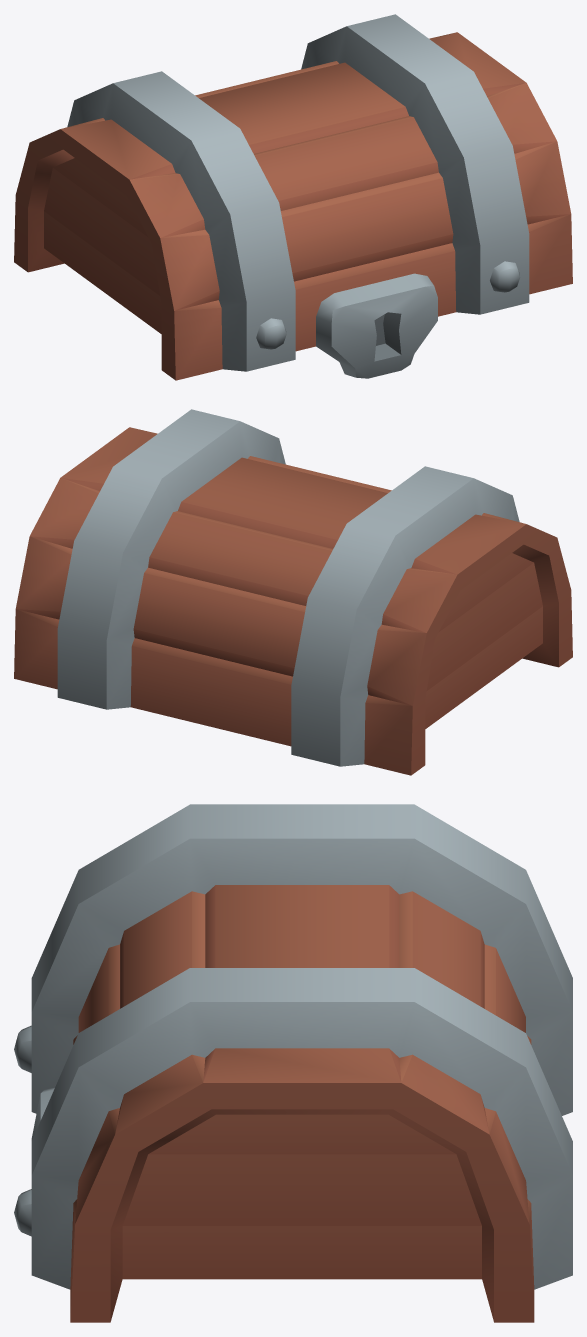
Rendered from chest_gold_lid.obj.
3 views of the same model, one above another, from view 1: azimuth 30°, elevation 25°; view 2: azimuth 150°, elevation 25°; view 3: azimuth 270°, elevation 25° (orthographic). The views are drawn at different scales.
Visible parts, largest first — view 1: chest_gold_lid; view 2: chest_gold_lid; view 3: chest_gold_lid.
Boxes of the visible parts, left/top/right/bottom form: chest_gold_lid: left=14, top=14, right=572, bottom=380; chest_gold_lid: left=14, top=409, right=572, bottom=775; chest_gold_lid: left=14, top=804, right=572, bottom=1322.
Bounding box in the file's own units: 1.7 × 0.965 × 1.45.
Materials: 1 (1 with a texture image).
